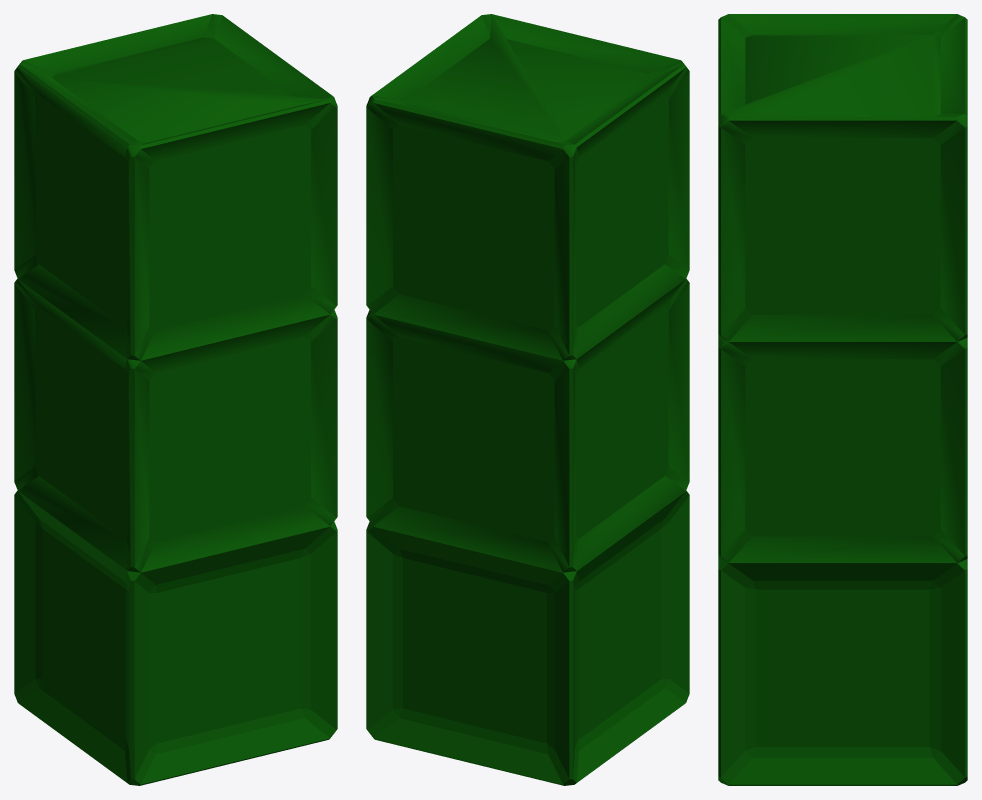
The model's file is greenBlock.fbx.
3 renders of one model, left to right at view 1: azimuth 30°, elevation 25°; view 2: azimuth 150°, elevation 25°; view 3: azimuth 270°, elevation 25°, orthographic. The views are drawn at different scales.
Visible parts, largest first — view 1: GreenBlock; view 2: GreenBlock; view 3: GreenBlock.
Boxes of the visible parts, x1=… form: GreenBlock: x1=14, y1=14, x2=337, y2=785; GreenBlock: x1=366, y1=14, x2=689, y2=785; GreenBlock: x1=718, y1=14, x2=967, y2=785.
Size of the model in its own units: 196 by 580 by 196.
